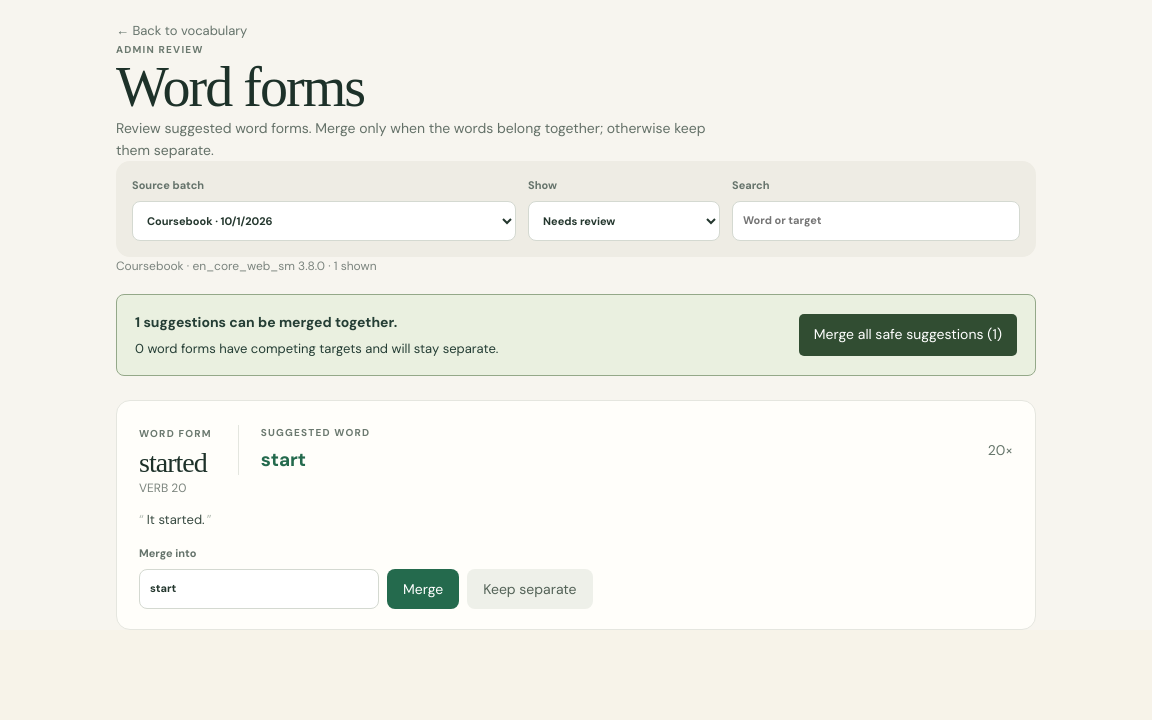
Test: vocabulary lemma review › merges to the edited target and shows RPC failures beside the candidate
This screenshot has width=1152, height=720.
(page scrolled)
Replace the text in the field labelled "Merge into" with "begin": (259, 589) [139, 569, 379, 609]
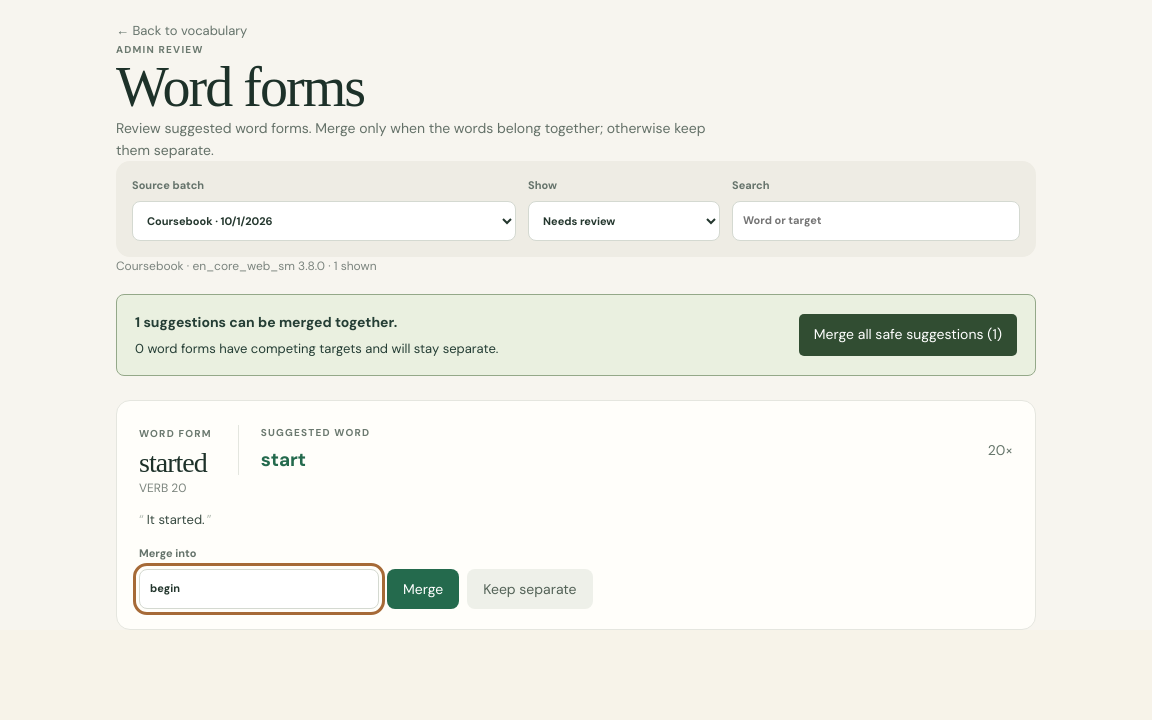
Click the button "Merge": (423, 589) [387, 569, 459, 609]
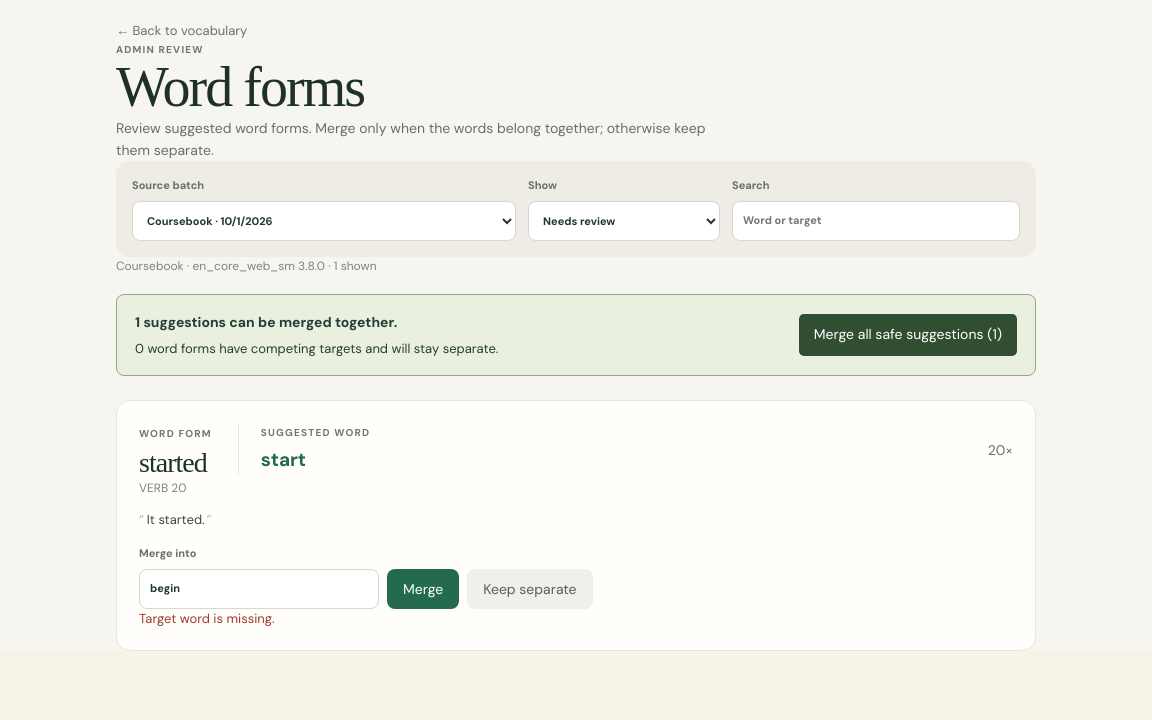
Expected: the message reads "Target word is missing.", [139, 610, 275, 627]
